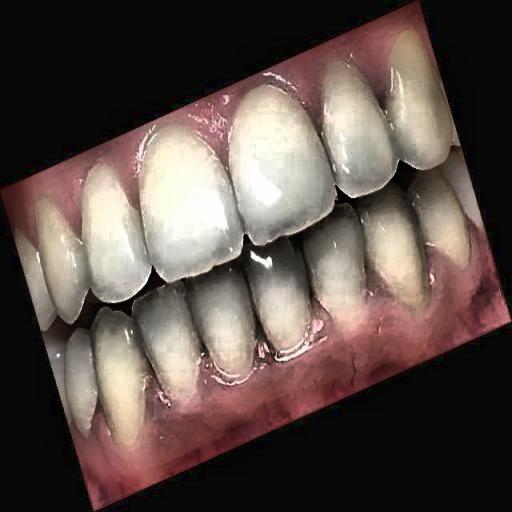Healthy: (5, 69, 489, 412)
